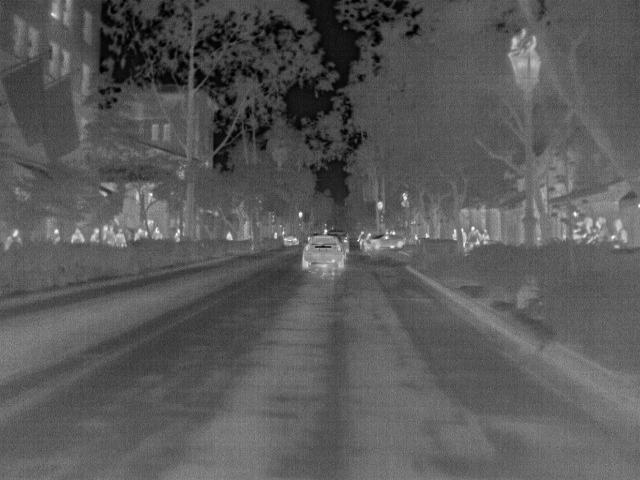car: (301, 234, 347, 272), (366, 235, 403, 253), (324, 231, 348, 252), (282, 234, 299, 246)
person: (608, 218, 630, 244), (4, 230, 23, 248), (50, 225, 66, 246), (68, 228, 87, 243), (466, 224, 479, 245), (86, 226, 101, 244), (149, 225, 164, 240), (171, 226, 184, 241)
